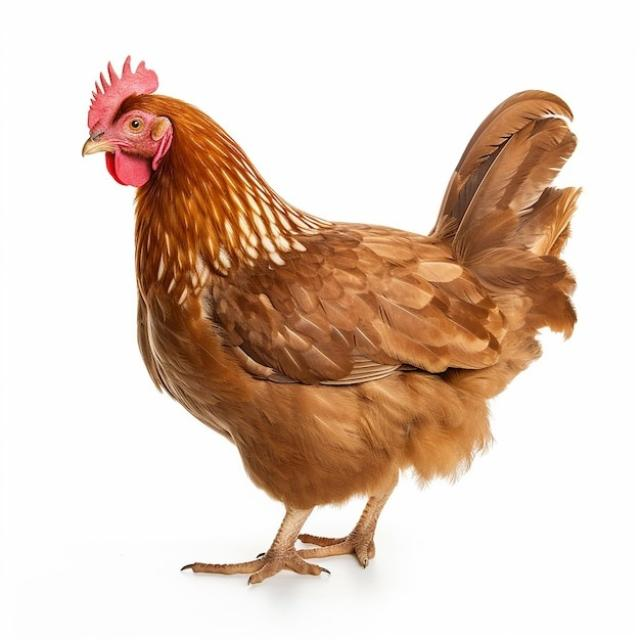Chicken: (79, 55, 583, 585)
